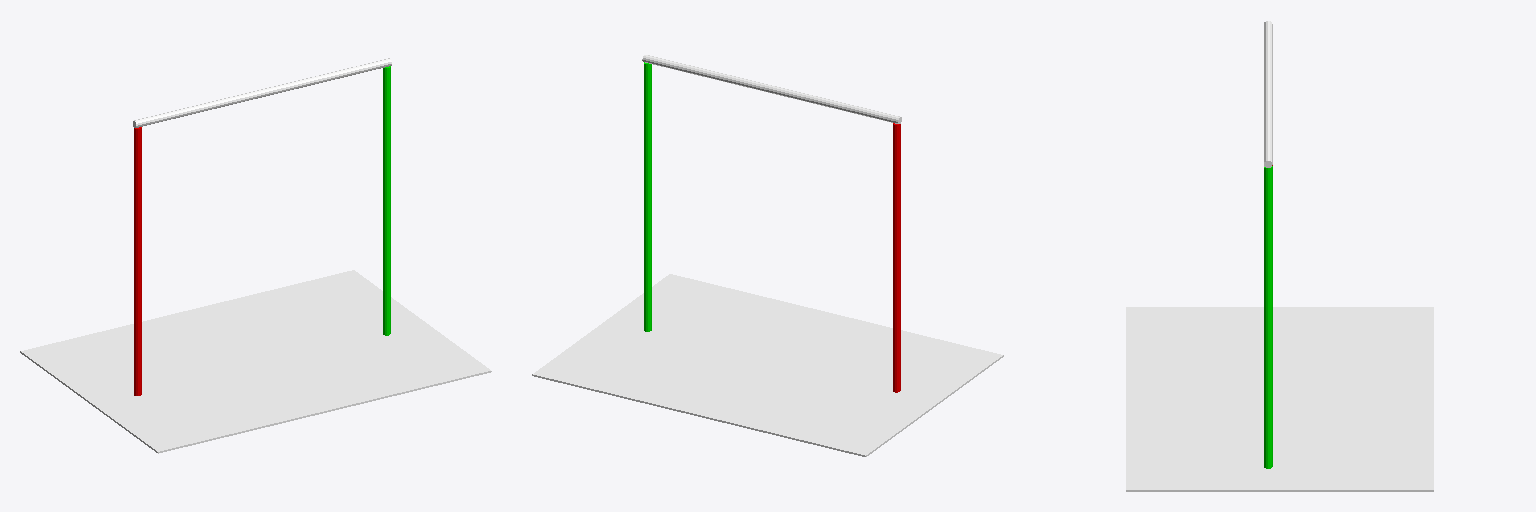
robot.urdf — gates_final:
<?xml version="1.0"?>
<robot
  name="gates_final">
  <link
    name="Base_parent_link">
    <inertial>
      <origin
        xyz="-0.00577427136703015 0.0496763085286102 0.0933867101522411"
        rpy="0 0 0" />
      <mass
        value="229.586609287268" />
      <inertia
        ixx="67.198190725204"
        ixy="0.00454175008895657"
        ixz="-0.130430807521452"
        iyy="103.515348732259"
        iyz="1.12210192840381"
        izz="106.257541756022" />
    </inertial>
    <visual>
      <origin
        xyz="0 0 0"
        rpy="0 0 0" />
      <geometry>
        <mesh
          filename="package://gates_final/meshes/Base_parent_link.STL" />
      </geometry>
      <material
        name="">
        <color
          rgba="105 105 105 1" />
      </material>
    </visual>
    <collision>
      <origin
        xyz="0 0 0"
        rpy="0 0 0" />
      <geometry>
        <mesh
          filename="package://gates_final/meshes/Base_parent_link.STL" />
      </geometry>
    </collision>
  </link>
  <link
    name="Left_link">
    <inertial>
      <origin
        xyz="-0.73 0.75 2.8423E-19"
        rpy="0 0 0" />
      <mass
        value="14.812" />
      <inertia
        ixx="2.7787"
        ixy="-4.2936E-34"
        ixz="0"
        iyy="0.0029624"
        iyz="7.3896E-34"
        izz="2.7787" />
    </inertial>
    <visual>
      <origin
        xyz="0 0 0"
        rpy="0 0 0" />
      <geometry>
        <mesh
          filename="package://gates_final/meshes/Left_link.STL" />
      </geometry>
      <material
        name="">
        <color
          rgba="255 0 0 1" />
      </material>
    </visual>
    <collision>
      <origin
        xyz="0 0 0"
        rpy="0 0 0" />
      <geometry>
        <mesh
          filename="package://gates_final/meshes/Left_link.STL" />
      </geometry>
    </collision>
  </link>
  <joint
    name="Left_part"
    type="fixed">
    <origin
      xyz="0 0 0"
      rpy="1.5708 0 0" />
    <parent
      link="Base_parent_link" />
    <child
      link="Left_link" />
    <axis
      xyz="0 0 0" />
  </joint>
  <link
    name="Right_link">
    <inertial>
      <origin
        xyz="0.73 0.75 9.5828E-19"
        rpy="0 0 0" />
      <mass
        value="14.812" />
      <inertia
        ixx="2.7787"
        ixy="-4.2936E-34"
        ixz="0"
        iyy="0.0029624"
        iyz="-8.1642E-34"
        izz="2.7787" />
    </inertial>
    <visual>
      <origin
        xyz="0 0 0"
        rpy="0 0 0" />
      <geometry>
        <mesh
          filename="package://gates_final/meshes/Right_link.STL" />
      </geometry>
      <material
        name="">
        <color
          rgba="0 255 0 1" />
      </material>
    </visual>
    <collision>
      <origin
        xyz="0 0 0"
        rpy="0 0 0" />
      <geometry>
        <mesh
          filename="package://gates_final/meshes/Right_link.STL" />
      </geometry>
    </collision>
  </link>
  <joint
    name="Right_part"
    type="fixed">
    <origin
      xyz="0 0 0"
      rpy="1.5708 0 0" />
    <parent
      link="Base_parent_link" />
    <child
      link="Right_link" />
    <axis
      xyz="0 0 0" />
  </joint>
</robot>

--- Facts derived from the render (not from the file) ---
Views: 3 orthographic renders of the robot side by side, from view 1: azimuth 30°, elevation 25°; view 2: azimuth 150°, elevation 25°; view 3: azimuth 270°, elevation 25°.
Model gates_final with 3 links and 2 joints (2 fixed), rooted at Base_parent_link, posed all joints at 0.
Visible links, largest first — view 1: Base_parent_link, Right_link, Left_link; view 2: Base_parent_link, Left_link, Right_link; view 3: Base_parent_link, Right_link.
Link boxes in pixels (box(x1,y1,x2,y2)): Base_parent_link: box(20, 58, 491, 453); Right_link: box(383, 66, 390, 335); Left_link: box(134, 127, 141, 395); Base_parent_link: box(532, 55, 1003, 456); Left_link: box(893, 123, 900, 392); Right_link: box(644, 62, 651, 331); Base_parent_link: box(1126, 21, 1433, 491); Right_link: box(1264, 166, 1272, 468).
Size in the robot's own frame: 1.96 by 1.4 by 1.55 metres.
Meshes: 3 distinct files referenced, 3 mesh visuals loaded (3 binary STL).
